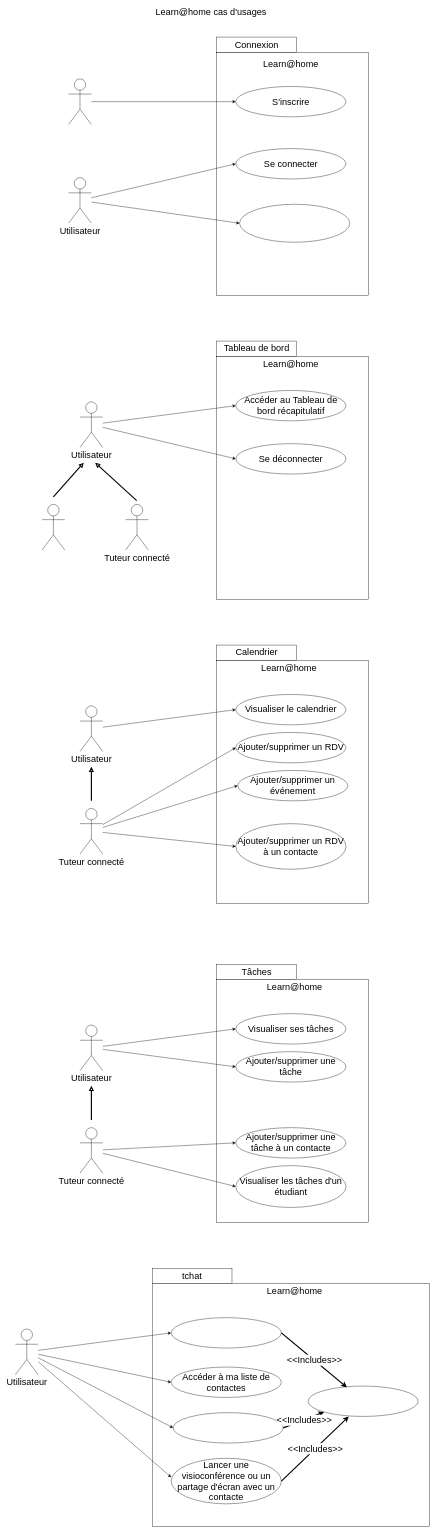
The diagram is 436 pixels wide and 1533 high, and some of its shapes have lost their labels. The shapes that lost their labels are listed below. From the top down, each one's centre as x and y in pixels, then its label:
At (79,101): "Visiteur".
At (294,223): "Réinitialiser son mot de passe".
At (53,527): "Etudiant connecté".
At (226,1332): "Ajouter/supprimer un contacte".
At (363,1401): "Rechercher un contacte".
At (228,1427): "Envoyer/supprimer un message à un contacte".
